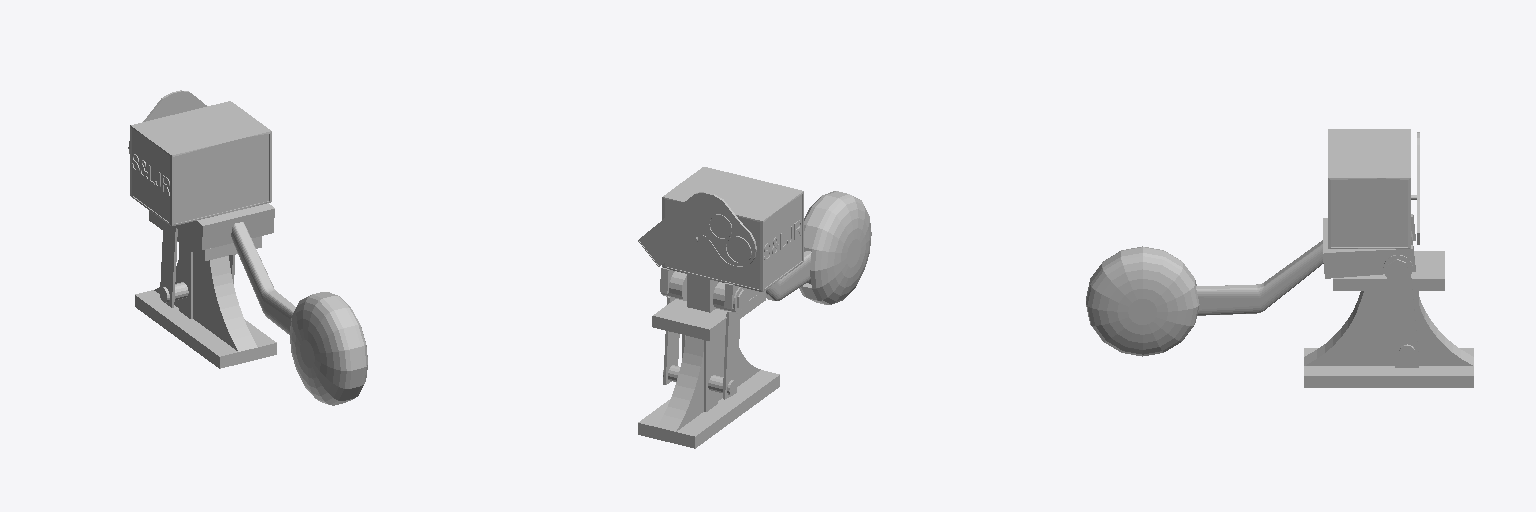
Rendered from sljrshuntgreen.obj.
3 views of the same model, side by side, from view 1: azimuth 30°, elevation 25°; view 2: azimuth 150°, elevation 25°; view 3: azimuth 270°, elevation 25° (orthographic).
Parts seen in each view (by area): view 1: OFF_SIGNAL_Cylinder.001_Cylinder.002; view 2: OFF_SIGNAL_Cylinder.001_Cylinder.002; view 3: OFF_SIGNAL_Cylinder.001_Cylinder.002.
Boxes of the visible parts, box(x1,y1,x2,y2) form: OFF_SIGNAL_Cylinder.001_Cylinder.002: box(128, 90, 367, 405); OFF_SIGNAL_Cylinder.001_Cylinder.002: box(638, 167, 871, 448); OFF_SIGNAL_Cylinder.001_Cylinder.002: box(1086, 129, 1473, 387).
Bounding box in the file's own units: 0.5727 × 1.05 × 1.59.